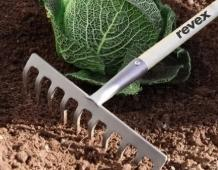RATEAU: (24, 0, 215, 164)
